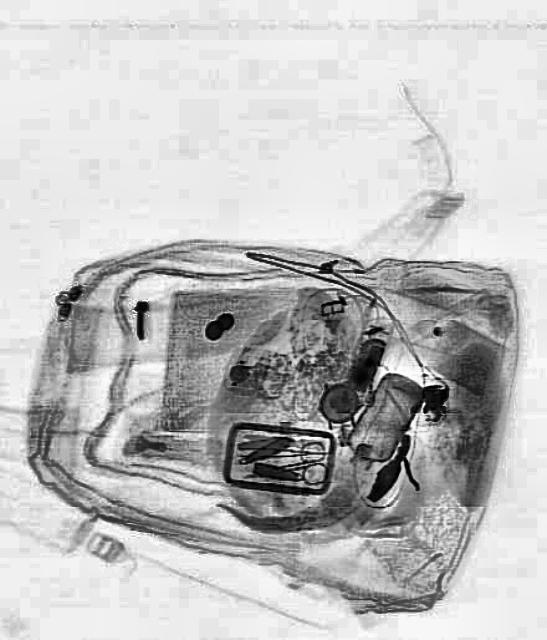Scissors: (254, 438, 328, 490)
